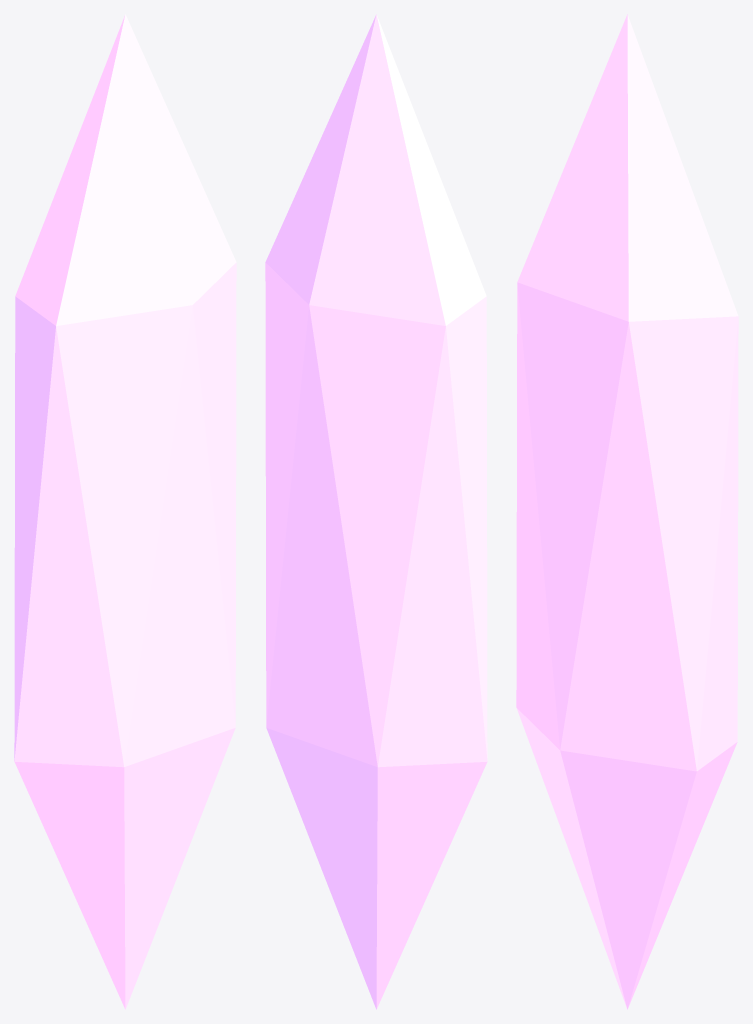
Rendered from arcane_spark.glb.
The picture shows the model from 3 angles, left to right: view 1: azimuth 30°, elevation 25°; view 2: azimuth 150°, elevation 25°; view 3: azimuth 330°, elevation 25°; orthographic projection.
Parts seen in each view (by area): view 1: arcane_spark; view 2: arcane_spark; view 3: arcane_spark.
Part boxes in pixels (box(x1,y1,x2,y2)): arcane_spark: box(14, 14, 236, 1009); arcane_spark: box(265, 14, 487, 1009); arcane_spark: box(516, 14, 738, 1009).
Bounding box in the file's own units: 0.2147 × 0.92 × 0.1106.
